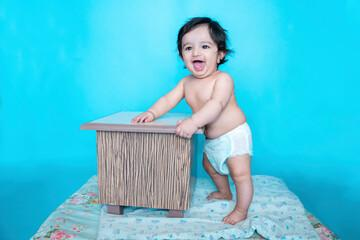Human: (142, 21, 257, 222)
